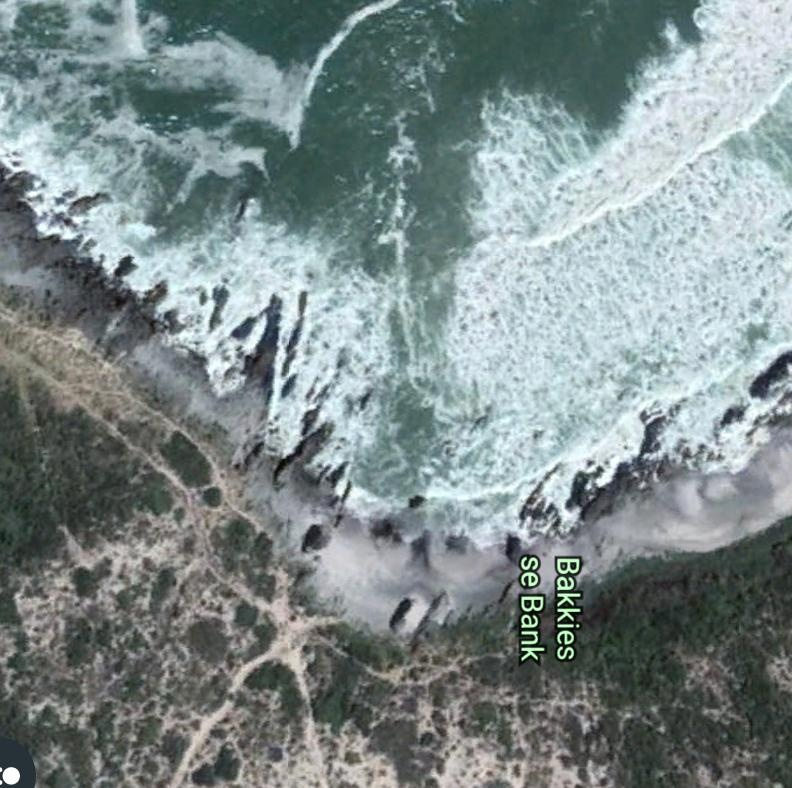rip_current: (286, 20, 550, 462)
